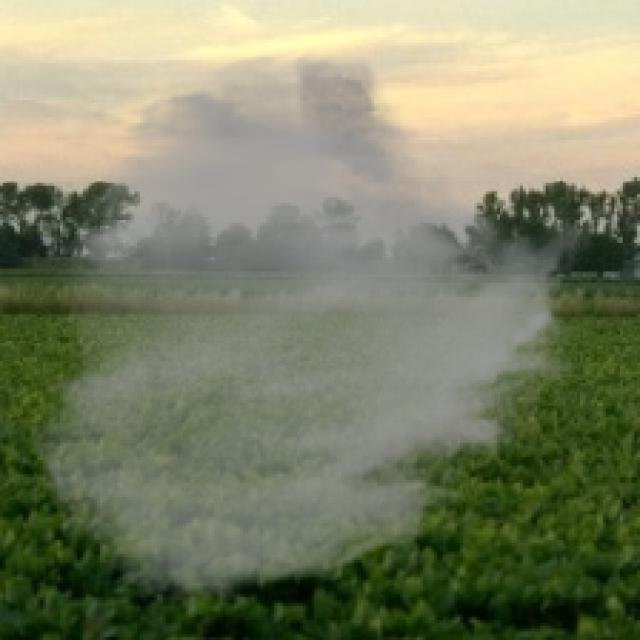smoke: (29, 49, 594, 608)
